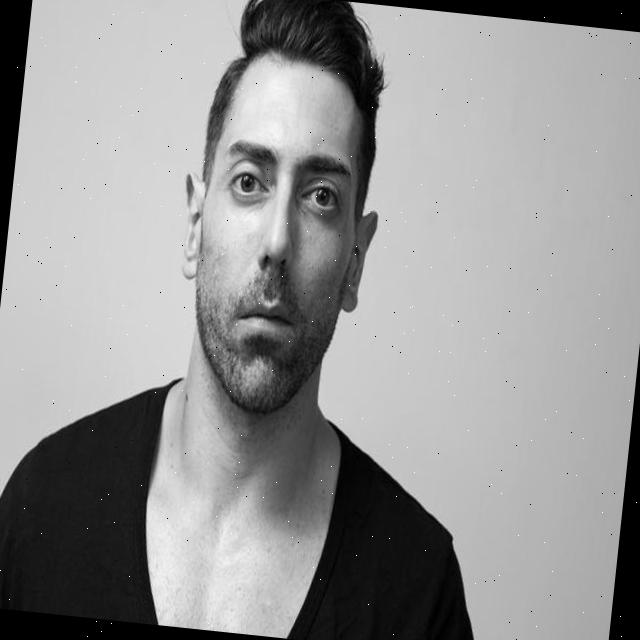Neutral: (181, 59, 370, 422)
